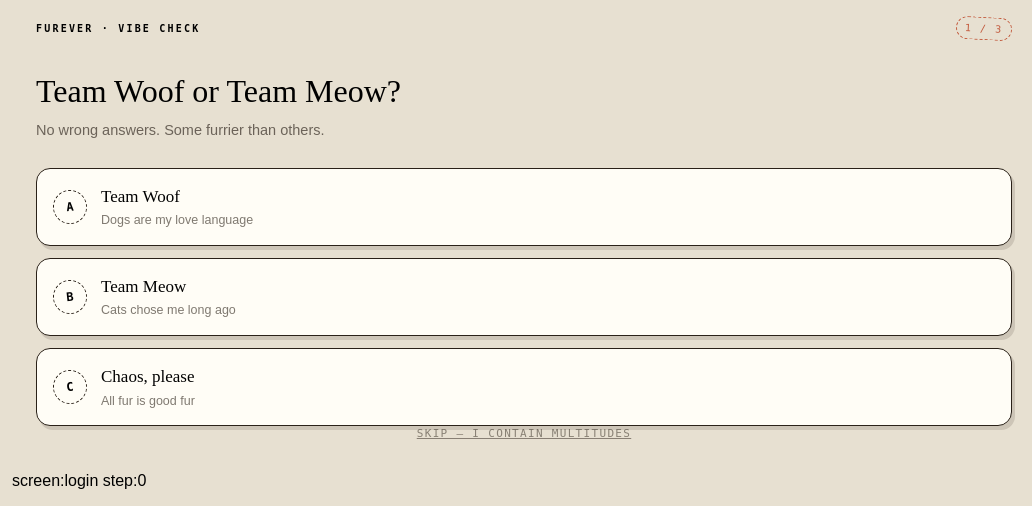
Test case: Onboarding › skip jumps to discover
The width and height of the screenshot is (1032, 506).
What coordinates should you click on to do the following:
click the button "SKIP — I CONTAIN MULTITUDES"
I would click on:
 (524, 435)
Its box is [417,426,631,443].
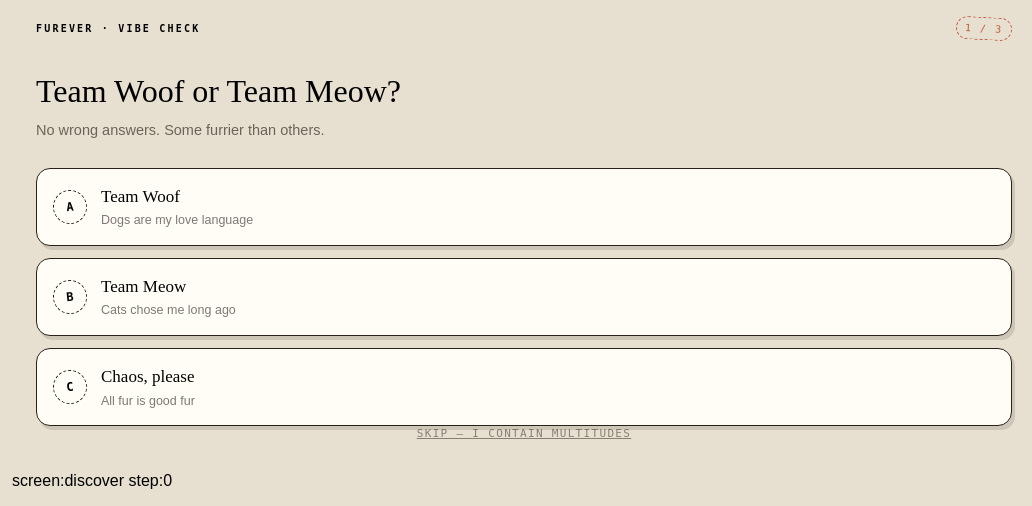
Result: the text "screen:discover step:0" is shown at [12,472,172,489]
